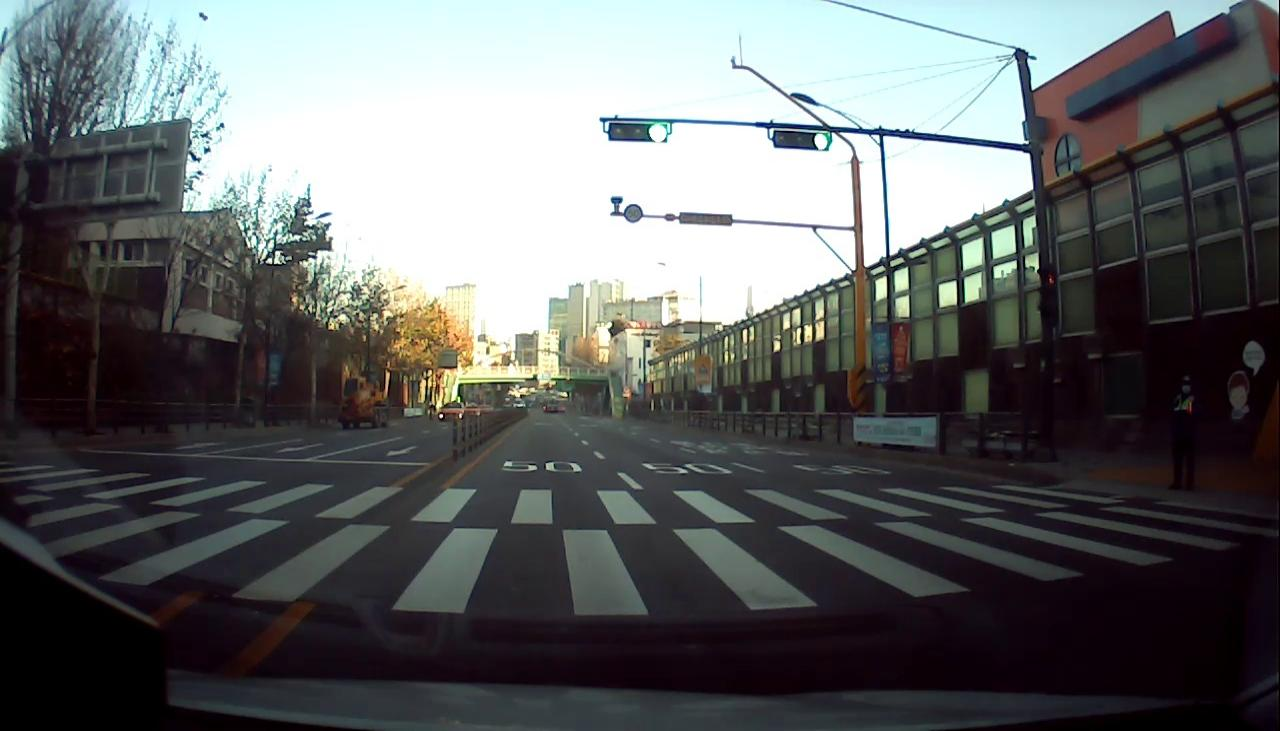Green Light: (646, 122, 670, 143), (812, 130, 831, 152)
